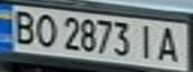2: (57, 14, 81, 52)
3: (112, 19, 136, 57)
7: (93, 17, 115, 55)
8: (78, 16, 96, 54)
A: (154, 24, 187, 64)
B: (6, 7, 39, 45)
I: (133, 21, 160, 61)
O: (30, 11, 60, 48)
